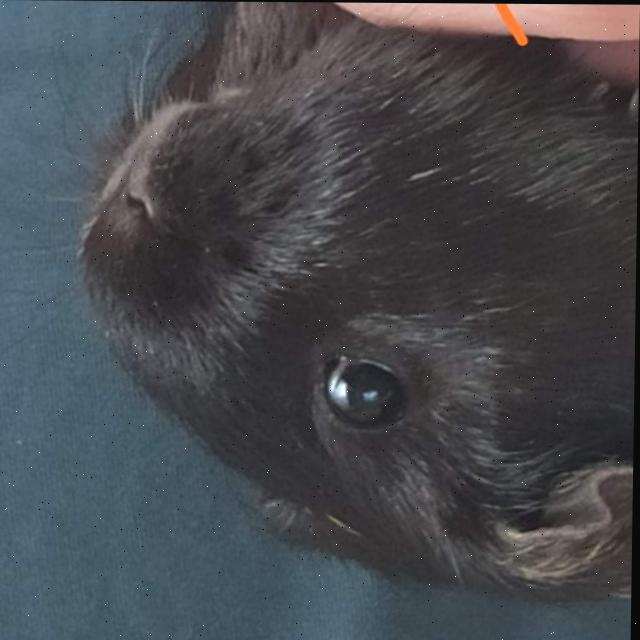guinea pig: (67, 40, 639, 604)
